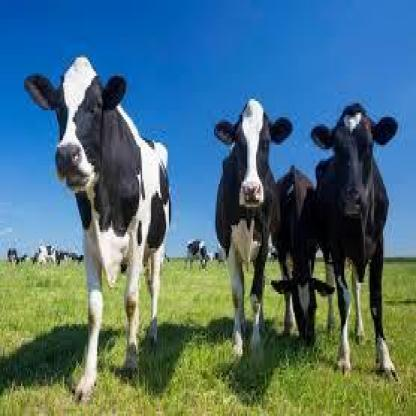cow: (22, 54, 170, 403), (310, 104, 400, 380), (212, 99, 294, 363), (272, 162, 320, 348), (185, 237, 210, 269)
